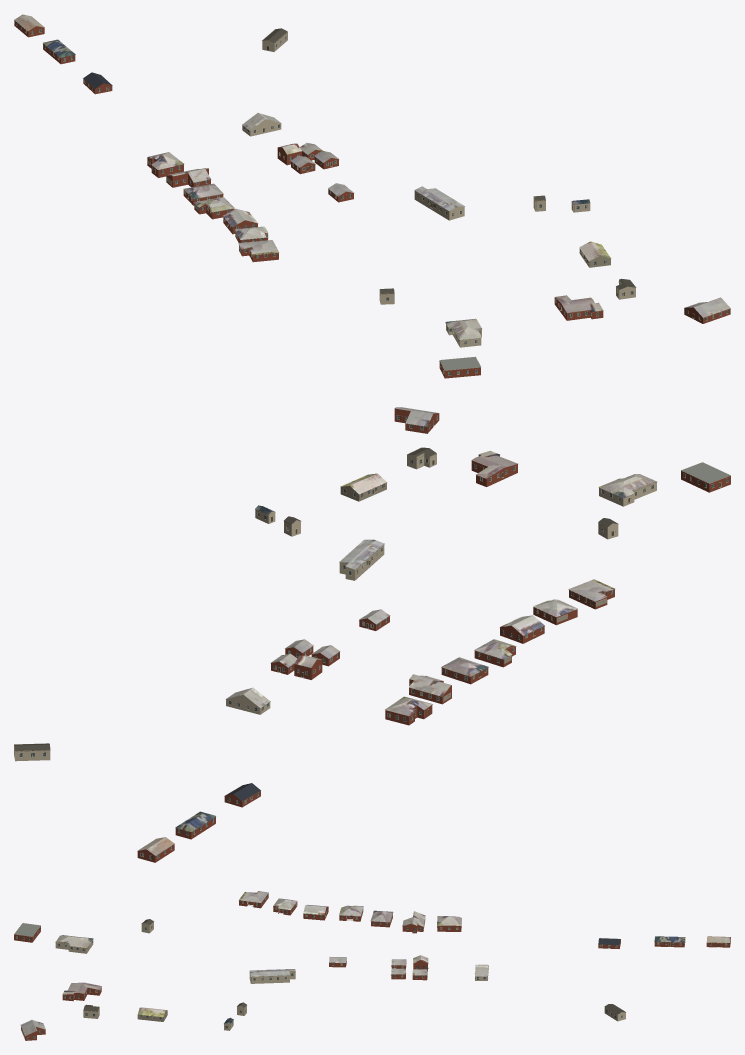
3 views of the same model, one above another, from view 1: azimuth 30°, elevation 25°; view 2: azimuth 150°, elevation 25°; view 3: azimuth 270°, elevation 25° (orthographic). The views are drawn at different scales.
Visible parts, largest first — view 1: 0_15_638294556_3, 0_15_638294549_2; view 2: 0_15_638294556_3, 0_15_638294549_2; view 3: 0_15_638294556_3, 0_15_638294549_2.
Part boxes in pixels (bbox=[...]): 0_15_638294556_3: bbox=[14, 14, 730, 378]; 0_15_638294549_2: bbox=[14, 20, 730, 376]; 0_15_638294556_3: bbox=[137, 407, 730, 862]; 0_15_638294549_2: bbox=[14, 414, 730, 861]; 0_15_638294556_3: bbox=[14, 891, 730, 1040]; 0_15_638294549_2: bbox=[14, 894, 730, 1039].
Size of the model in its own units: 193 by 19.66 by 472.
Materials: 13 (1 with a texture image).
